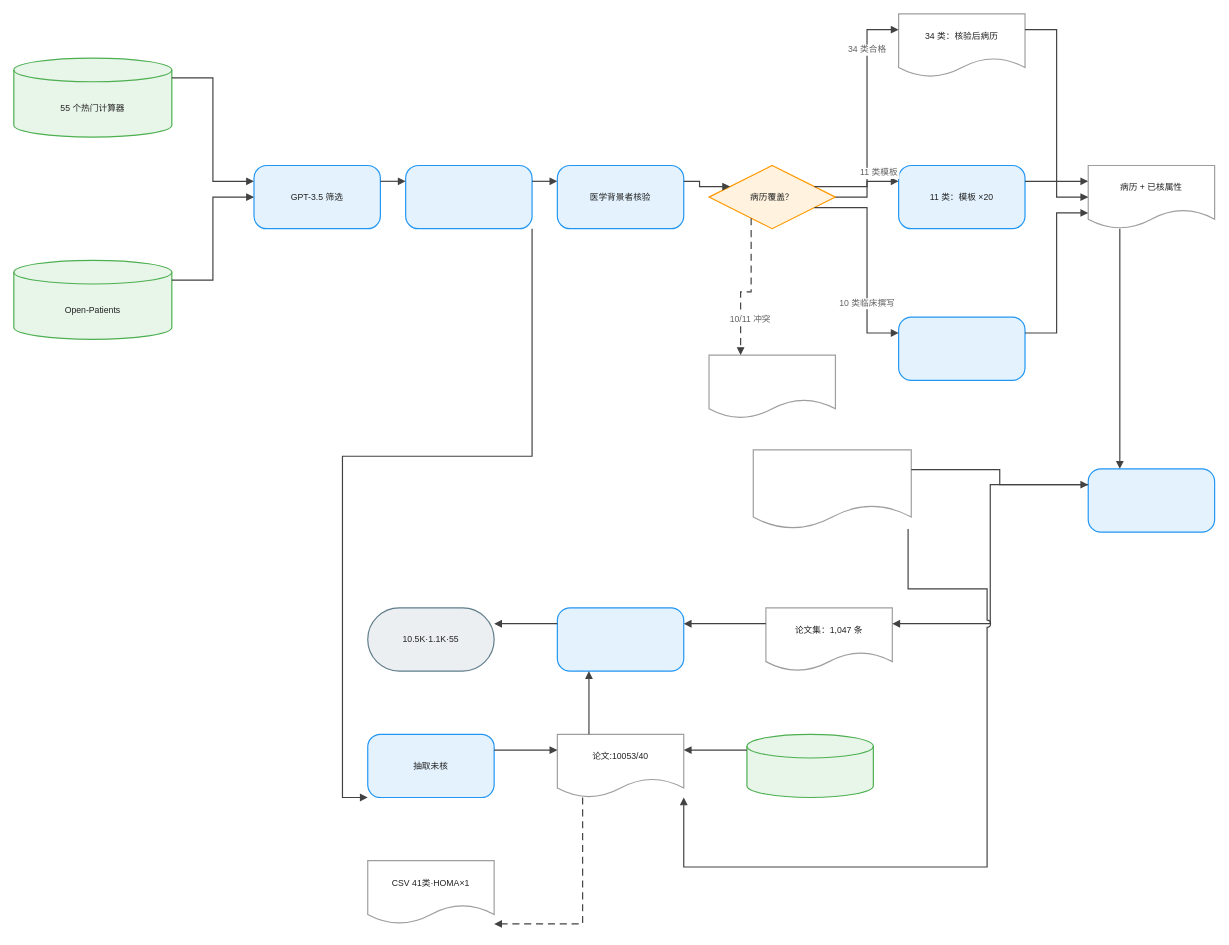
Some shapes in this 1229 by 945 pixel diagram are drawn without their labels. The centre of each missing label's shape, as x and y in pixels:
10 类：临床撰写×20: point 961,348
11 类模板×80: point 810,765
55 套计算 / 解释模板: point 832,489
GPT-4 提取属性: point 468,197
Verified 版本化修订: point 620,639
主文↔附录/CSV: point 772,386
答案 + 解释生成: point 1151,500
